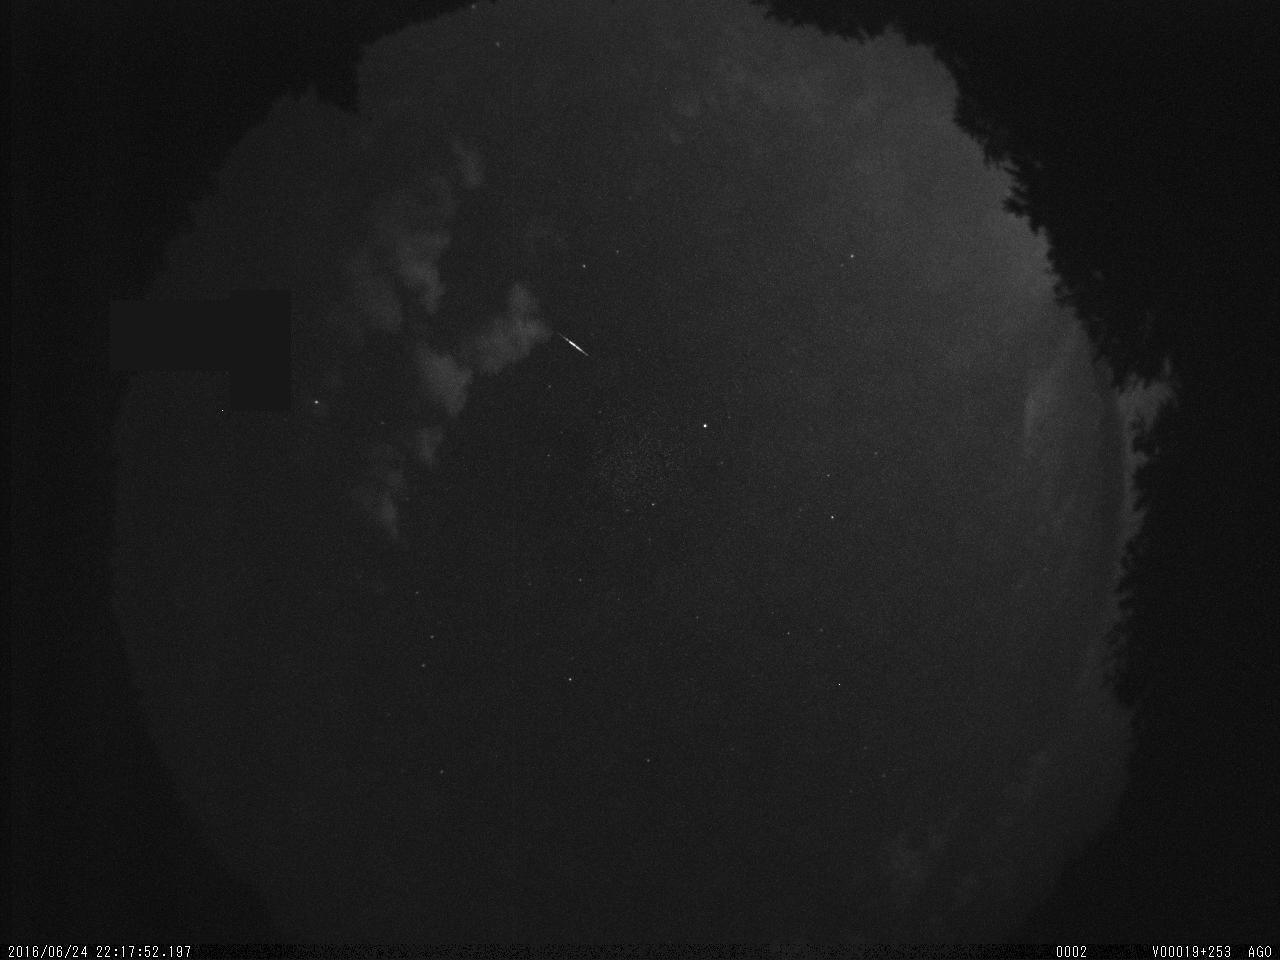Meteor: (560, 330, 591, 355)
